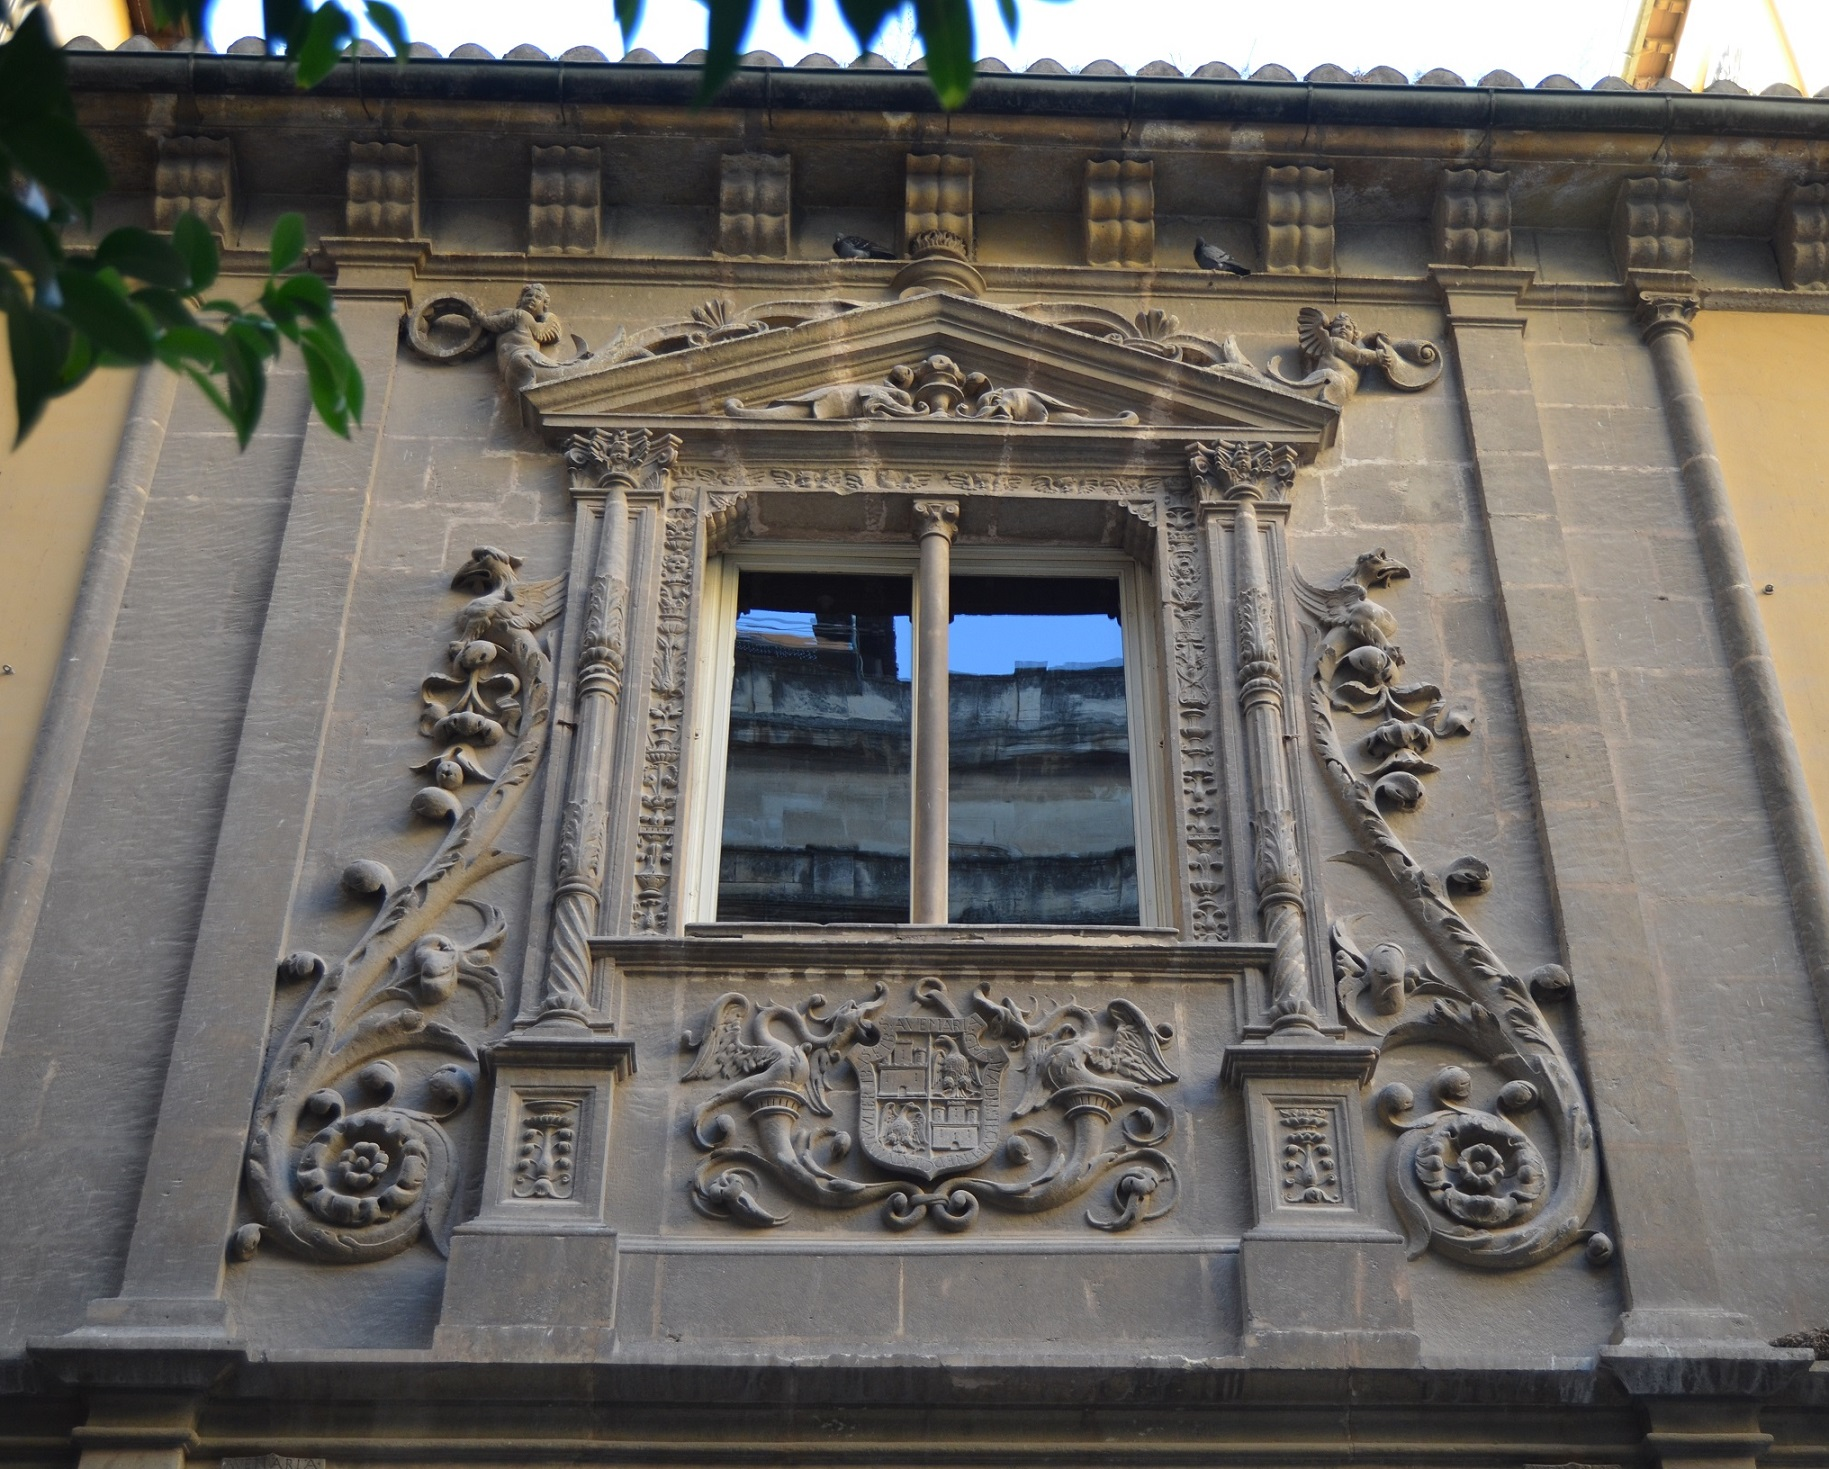fronton: (513, 271, 1367, 462)
vano-adintelado: (633, 441, 1235, 980)
